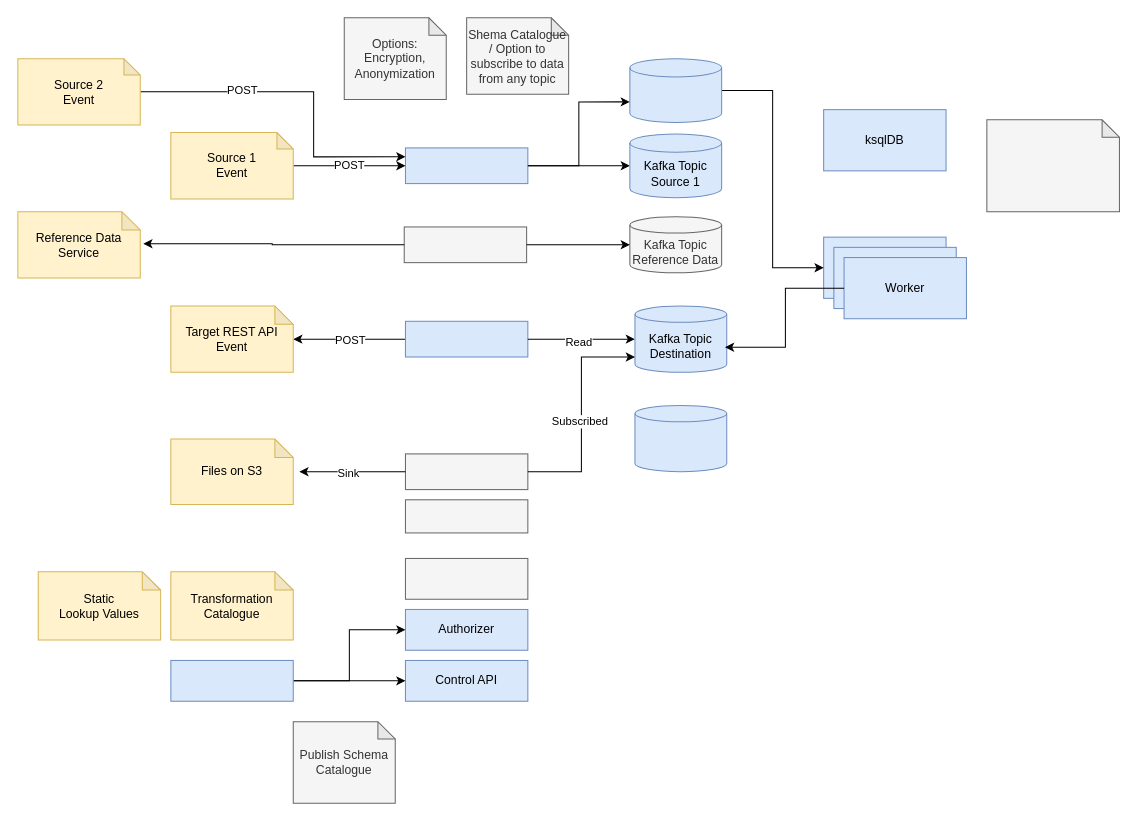
Image size: 1137x821. Some labels were removed from this diagram. The box of each missing label's shape, as (x1, y1, x2, y2) in pixels:
HTTP Sink Connector: (404, 320, 528, 357)
HTTP Source connector: (404, 147, 528, 184)
Kafka Topic Mapping Config: (634, 404, 727, 472)
Kafka Topic Source 2: (629, 58, 722, 122)
ksqlDB or Kafka Streams + Config-Driven Mapping: (986, 119, 1119, 212)
S3 Sink Connector: (404, 453, 528, 490)
SNS Sink Connector: (404, 499, 528, 533)
UI: (170, 659, 293, 701)
Vault: (404, 557, 528, 599)
Webhook triggers reference ingestion: (403, 226, 527, 263)
